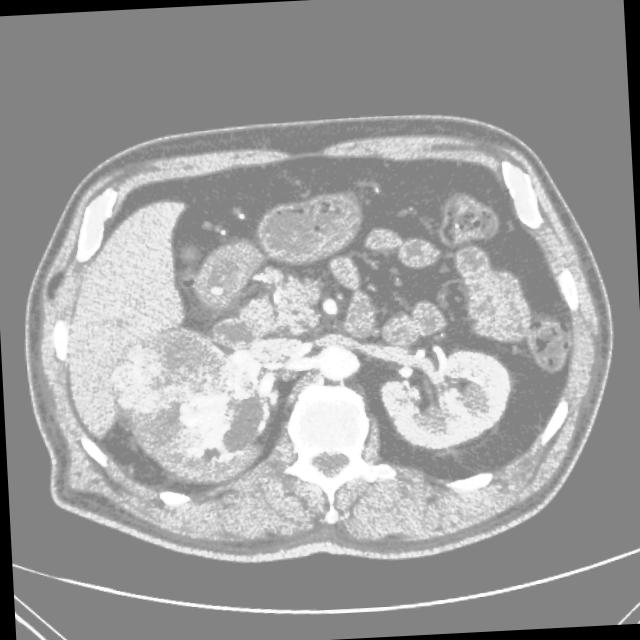TUMOR: (96, 248, 517, 484)
